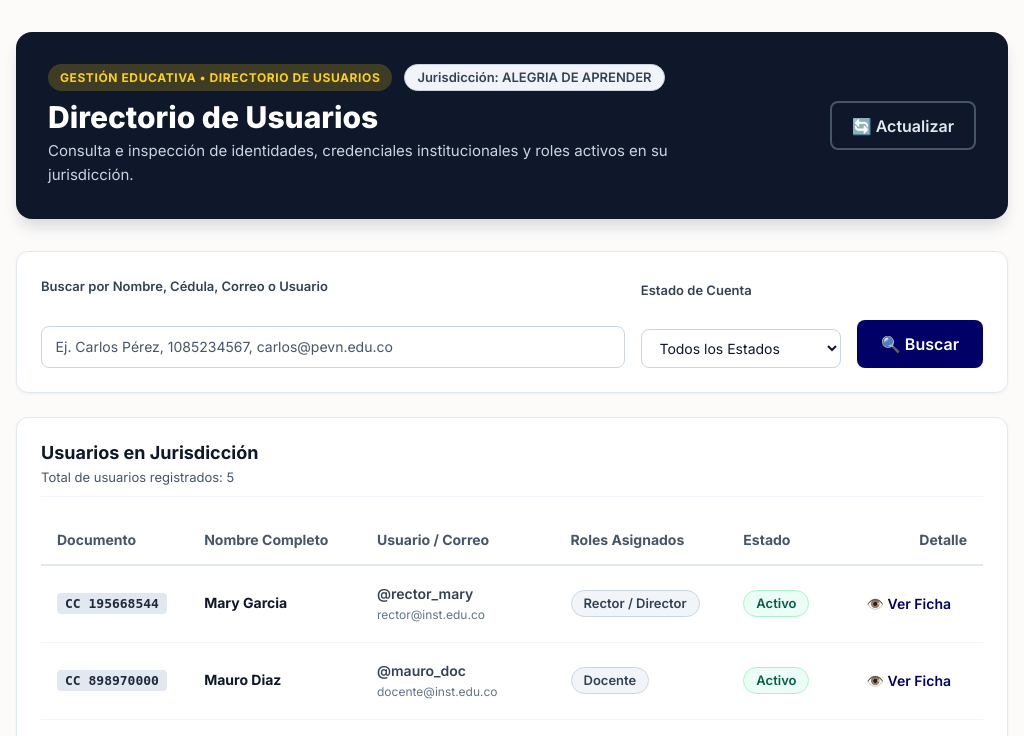
Test case: UsersView — Role Serialization and Rendering in Directory › displays correct assigned roles in user details modal when clicking "Ver Ficha"
Check: the text "Mauro Diaz" is shown, box x1=204 y1=671 x2=281 y2=688
Click the button with id "btn-view-user-u-2" at (909, 680), box x1=851 y1=658 x2=967 y2=702
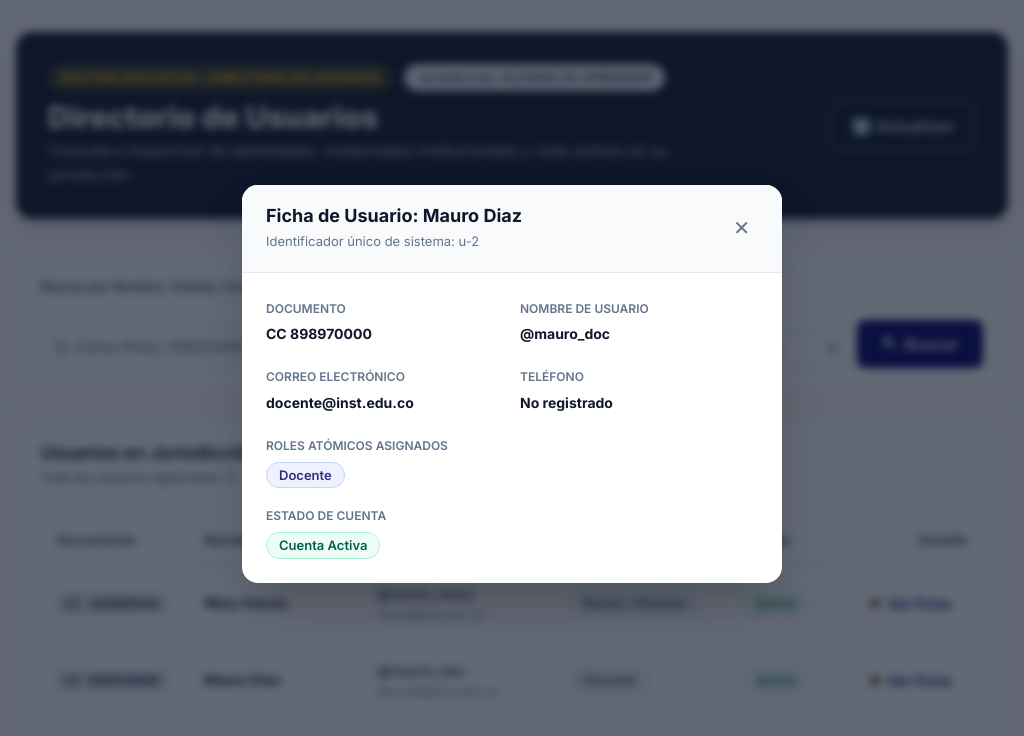
Check: the heading "Ficha de Usuario: Mauro Diaz" is shown, box x1=266 y1=205 x2=522 y2=227
Check: the text "ROLES ATÓMICOS ASIGNADOS" is shown, box x1=266 y1=438 x2=448 y2=453
